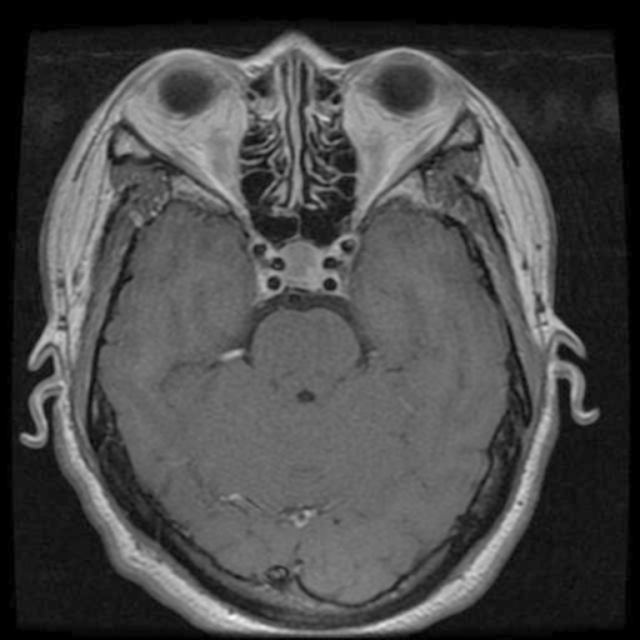no tumor: (272, 228, 340, 302)
